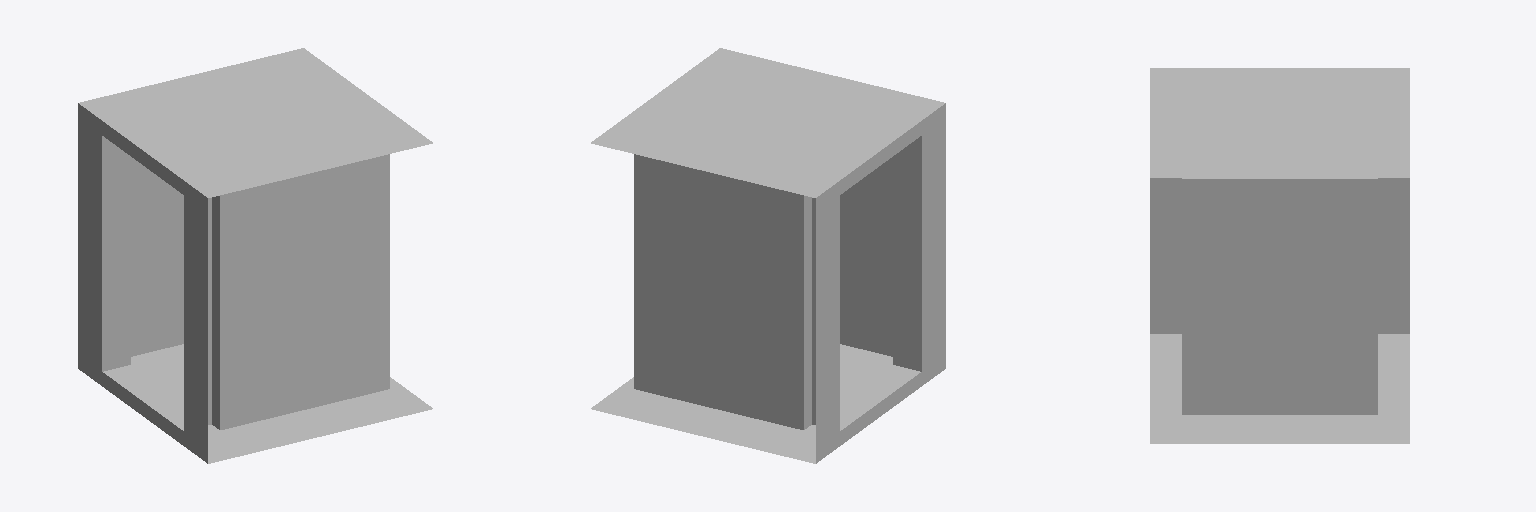
3 renders of one model, left to right at view 1: azimuth 30°, elevation 25°; view 2: azimuth 150°, elevation 25°; view 3: azimuth 270°, elevation 25°, orthographic.
Visible parts, largest first — view 1: Regroup03; view 2: Regroup03; view 3: Regroup03.
Boxes of the visible parts, x1=… form: Regroup03: x1=78, y1=48, x2=432, y2=463; Regroup03: x1=591, y1=48, x2=945, y2=463; Regroup03: x1=1150, y1=68, x2=1409, y2=443.
Size of the model in its own units: 8 by 9 by 8.